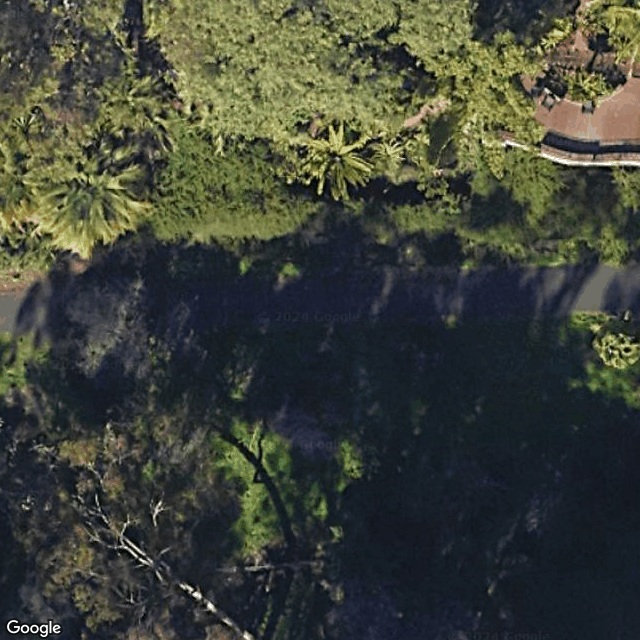palm: (10, 117, 158, 261), (284, 120, 380, 213), (83, 61, 174, 137)
